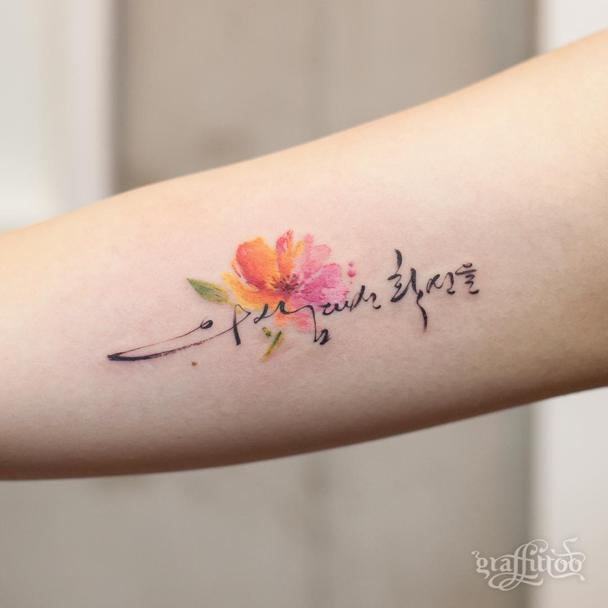tattoos: (105, 228, 480, 364)
